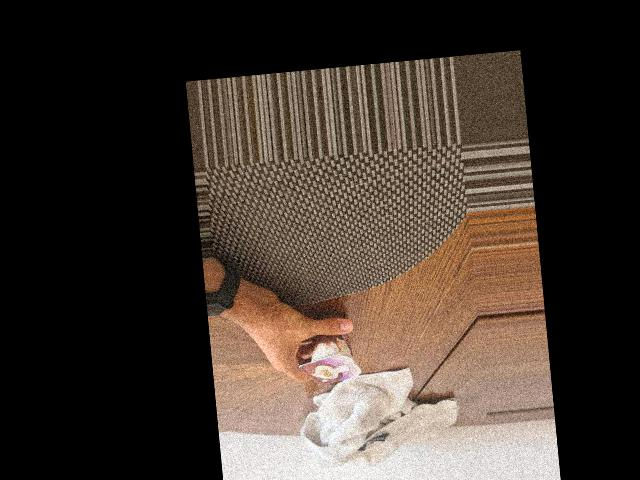milky: (292, 307, 362, 386)
